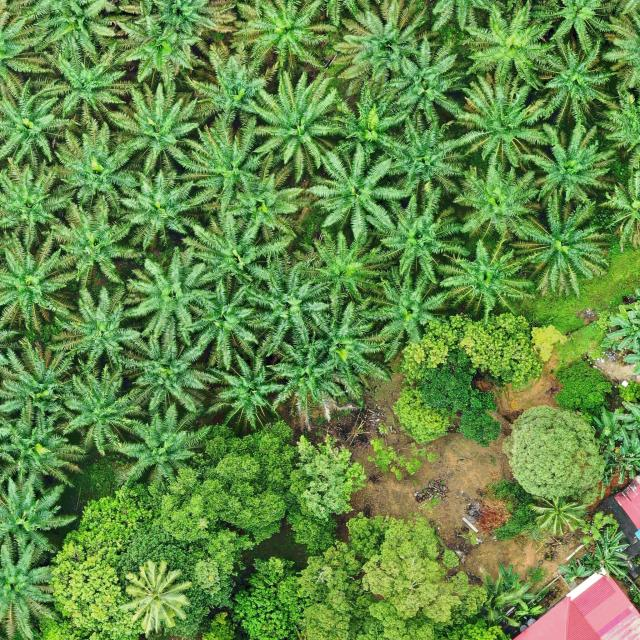Tree: (50, 479, 244, 640), (298, 513, 486, 640), (162, 416, 298, 550), (239, 68, 353, 188), (440, 72, 552, 176), (504, 404, 608, 505), (512, 187, 608, 296), (307, 143, 411, 241), (106, 78, 206, 179), (173, 206, 293, 288), (31, 40, 131, 138), (113, 332, 223, 420), (374, 185, 471, 284), (110, 398, 216, 488), (428, 229, 531, 320), (45, 282, 148, 372), (176, 272, 265, 376), (356, 262, 448, 361), (445, 155, 547, 244), (516, 122, 618, 211), (244, 256, 332, 359), (0, 334, 87, 438), (464, 0, 562, 92), (48, 368, 146, 459), (126, 248, 216, 344), (0, 475, 80, 583), (44, 201, 142, 289), (331, 0, 432, 85), (226, 0, 338, 76), (107, 164, 203, 252), (0, 234, 78, 342), (176, 114, 260, 213), (530, 37, 618, 131), (296, 226, 387, 316), (49, 119, 138, 208), (111, 10, 211, 89), (377, 116, 468, 201), (262, 340, 349, 428), (0, 405, 89, 491), (310, 296, 395, 386), (420, 347, 498, 445), (203, 346, 288, 432), (324, 78, 414, 157), (289, 434, 368, 524), (185, 41, 268, 126), (224, 160, 306, 246), (0, 152, 77, 243), (384, 37, 460, 128), (0, 73, 70, 169), (0, 533, 62, 640), (463, 312, 546, 391), (233, 552, 307, 640), (122, 560, 192, 634), (392, 383, 452, 444), (600, 12, 640, 97), (554, 358, 613, 411), (529, 492, 587, 536), (585, 543, 627, 582), (614, 425, 640, 484), (606, 309, 640, 353), (593, 406, 625, 452), (593, 525, 630, 560), (614, 400, 640, 438), (558, 556, 594, 583), (515, 599, 545, 617), (498, 564, 518, 591)
